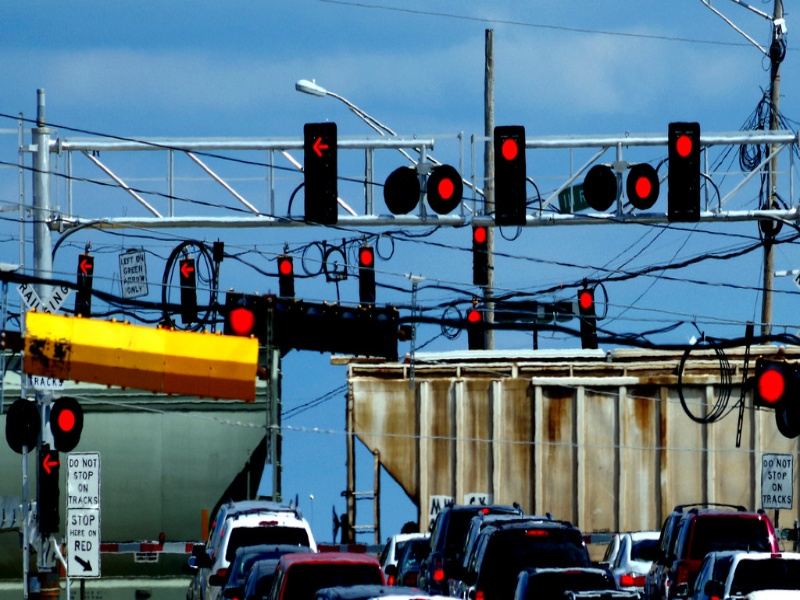red_light: (626, 125, 707, 222), (478, 127, 521, 188), (751, 364, 792, 417), (57, 397, 96, 445), (432, 169, 457, 213)
